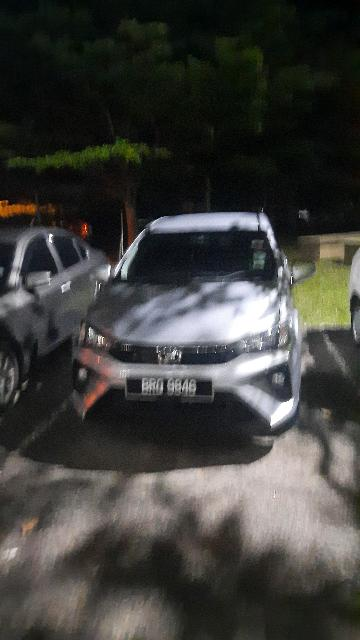License_Plate: (127, 375, 218, 405)
car: (76, 208, 315, 441)
